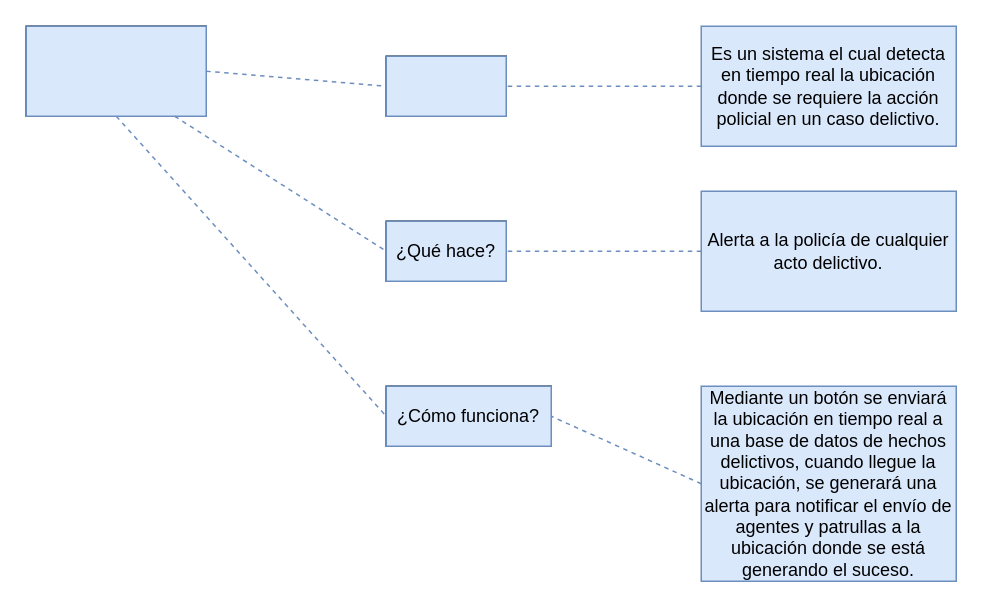
Image size: 983x608. Some labels were removed from this diagram. Here are the shapes that lost their labels. From the top down, the box of each, then its label:
(25, 25, 206, 116): La Alertiña (Sistema de Alerta de Delitos)
(385, 55, 506, 116): ¿Qué es?
